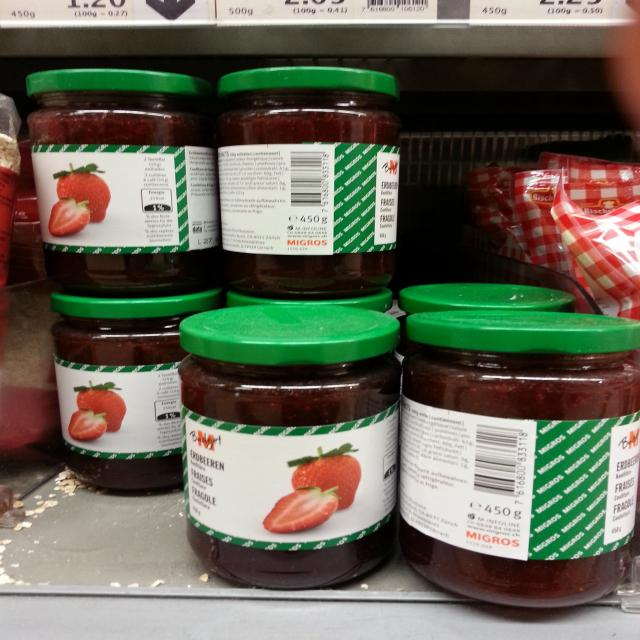Spreads: (402, 309, 640, 613), (179, 301, 400, 590), (26, 69, 218, 297), (215, 65, 398, 299), (51, 292, 216, 494)
